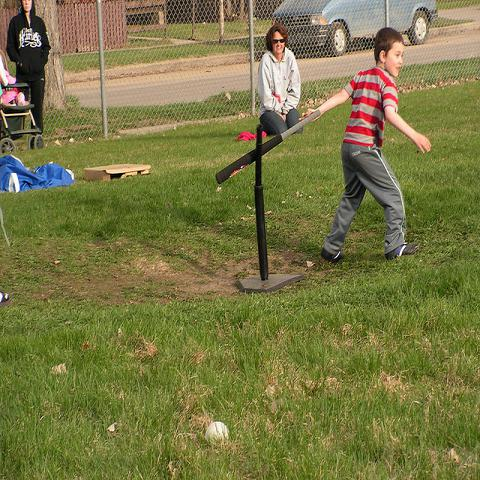truck: (272, 0, 437, 57)
